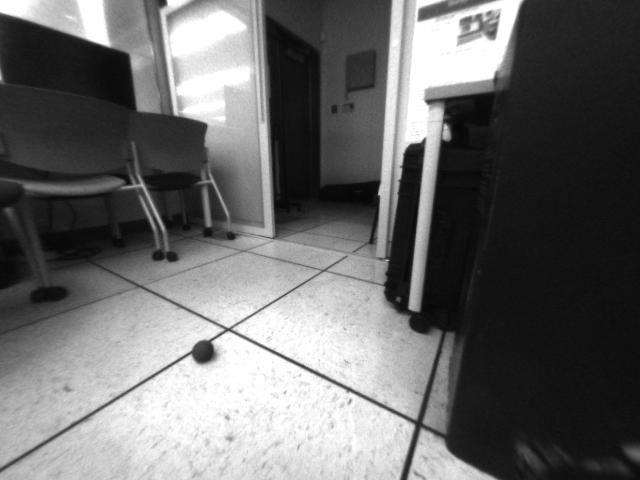dogtoy: (184, 332, 223, 366)
